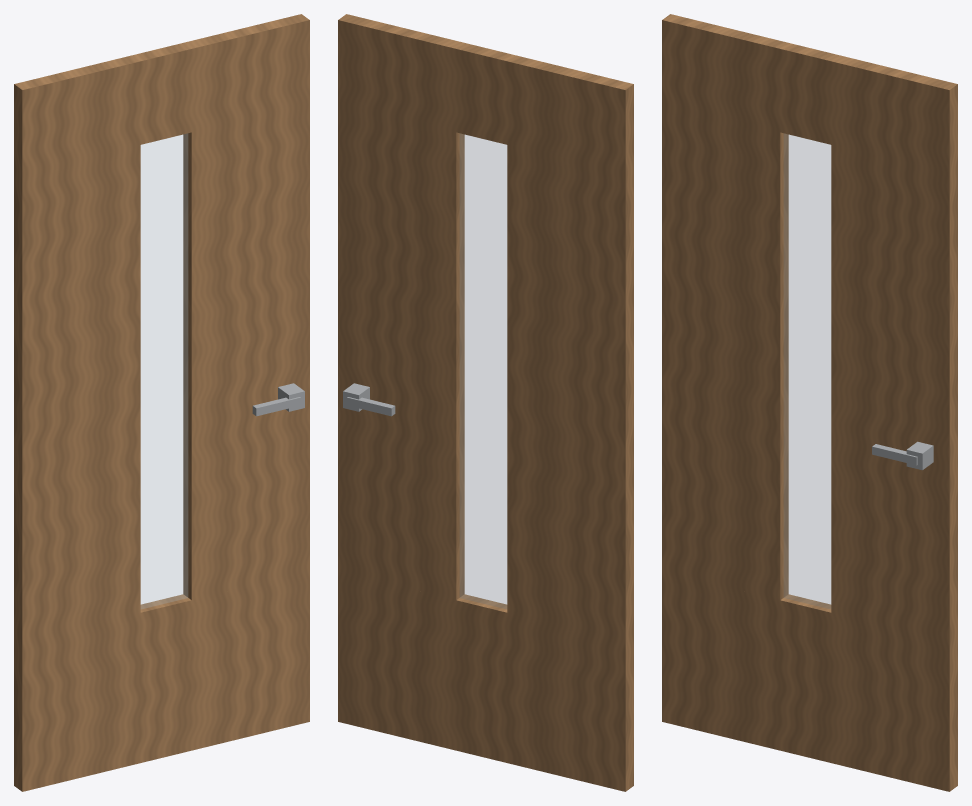
Rendered from mlo_door_office_vision.glb.
3 renders of one model, left to right at view 1: azimuth 30°, elevation 25°; view 2: azimuth 150°, elevation 25°; view 3: azimuth 330°, elevation 25°, orthographic.
Parts seen in each view (by area): view 1: Door_Office_Vision; view 2: Door_Office_Vision; view 3: Door_Office_Vision.
Boxes of the visible parts, x1=… form: Door_Office_Vision: x1=14, y1=14, x2=309, y2=791; Door_Office_Vision: x1=338, y1=14, x2=633, y2=791; Door_Office_Vision: x1=662, y1=14, x2=957, y2=791.
Size of the model in its own units: 0.9 by 2.1 by 0.175.
Materials: 3 (1 with a texture image).
